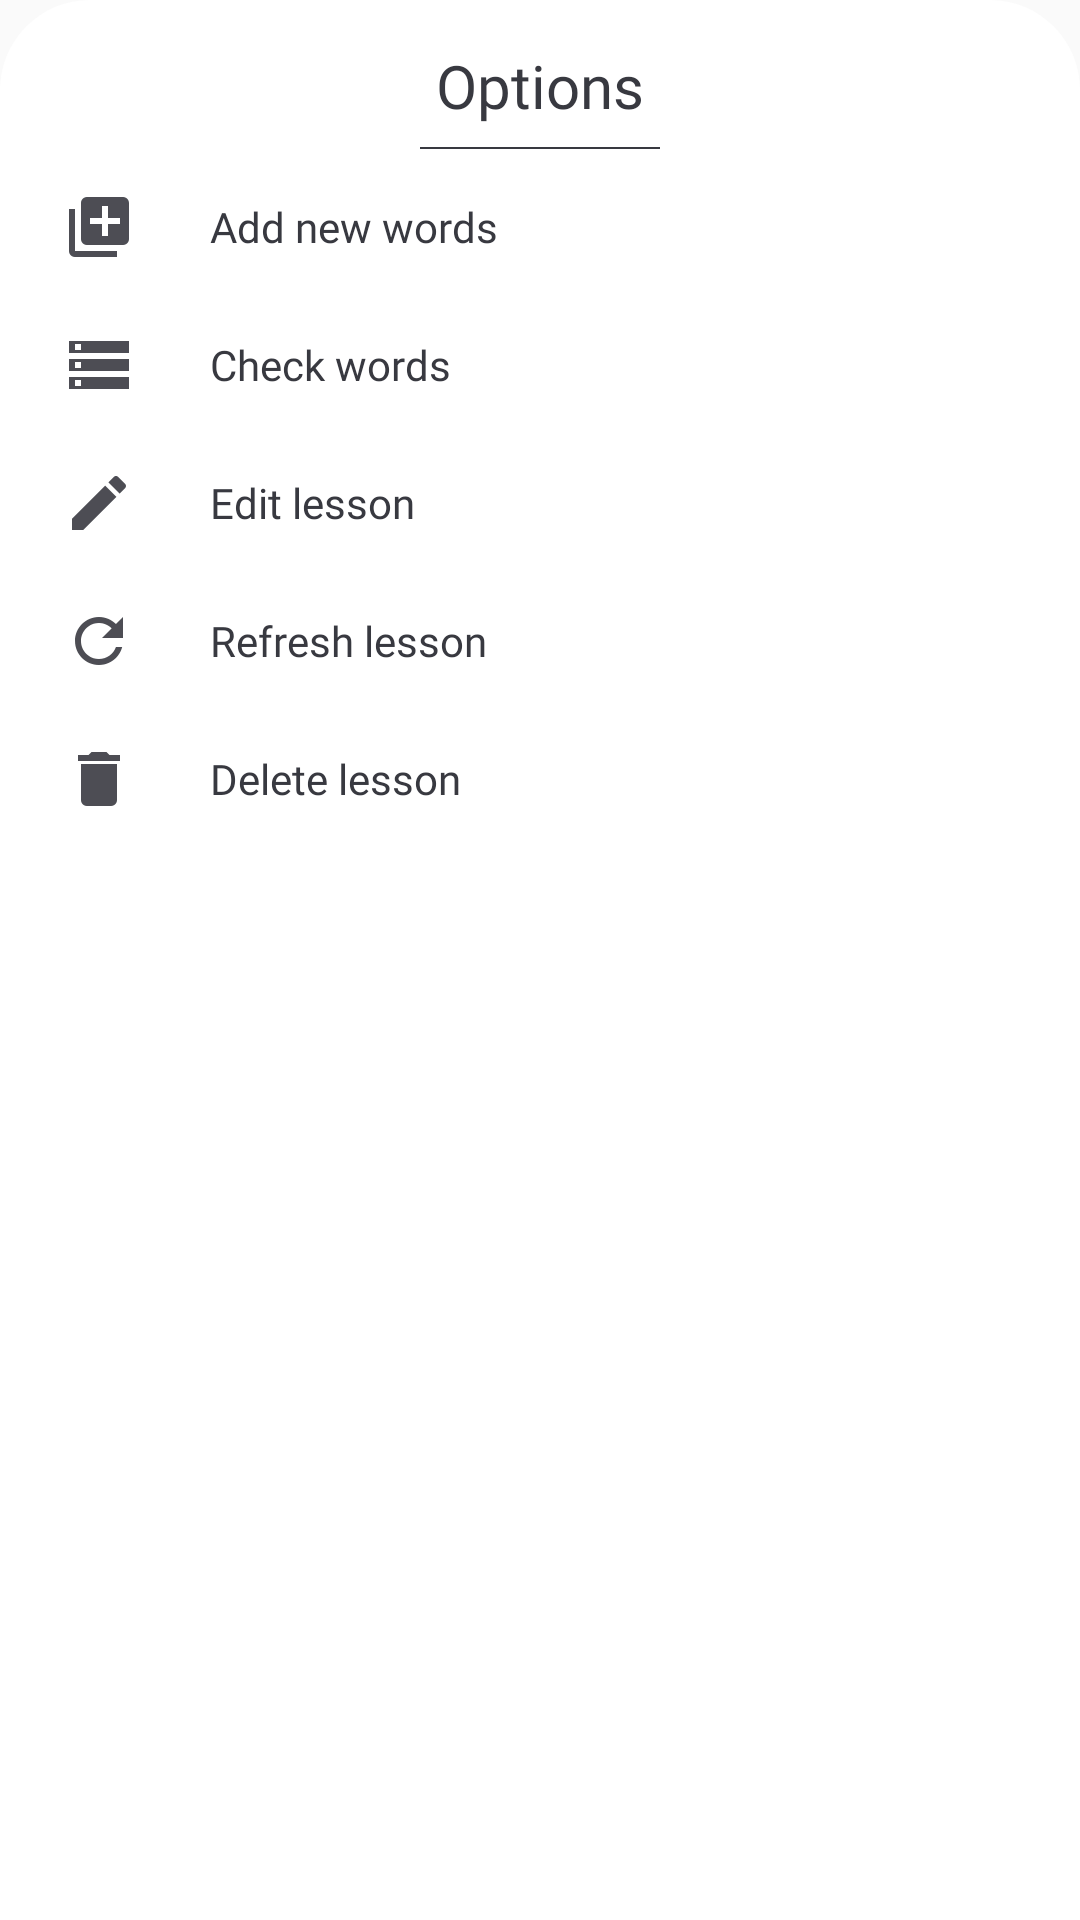

Named icons in this screenshot (1080px×1920px) and their bounding boxes, (x1, y1, x2, y2):
library add: (69, 197, 129, 257)
storage: (69, 341, 129, 389)
